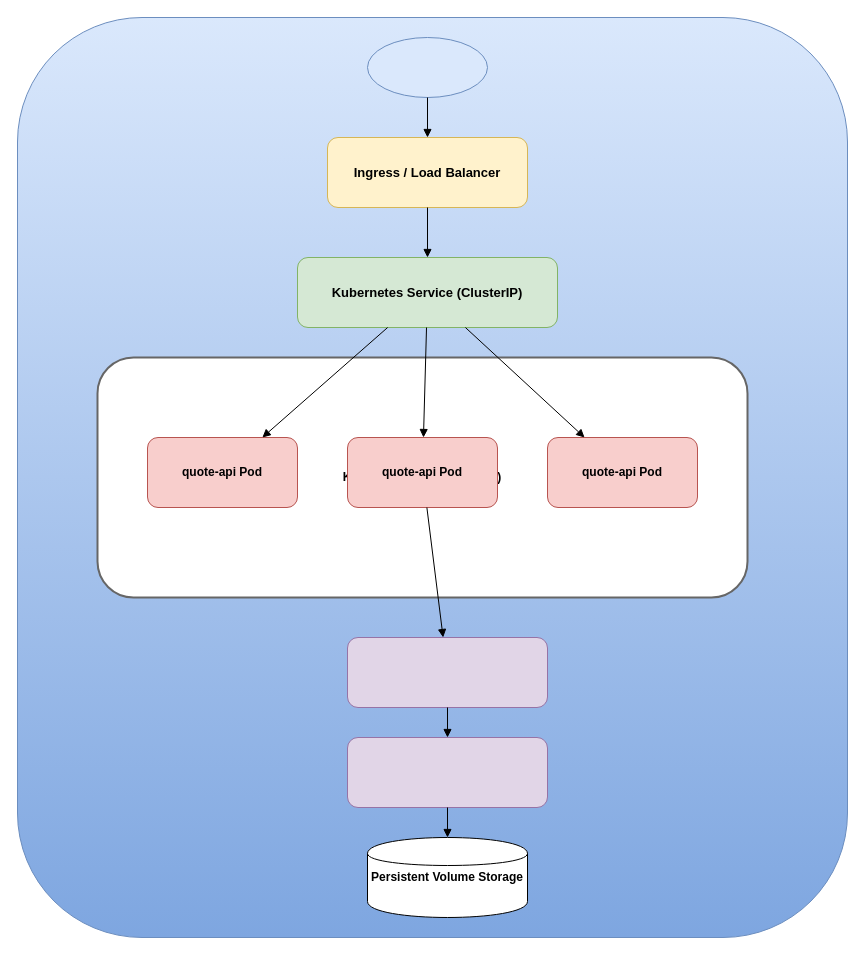
Some shapes in this 865 by 955 pixel diagram are drawn without their labels. Each missing label, with the centre of its shape:
PostgreSQL Pod (StatefulSet): [447,772]
PostgreSQL Service: [447,672]
Users: [427,67]
